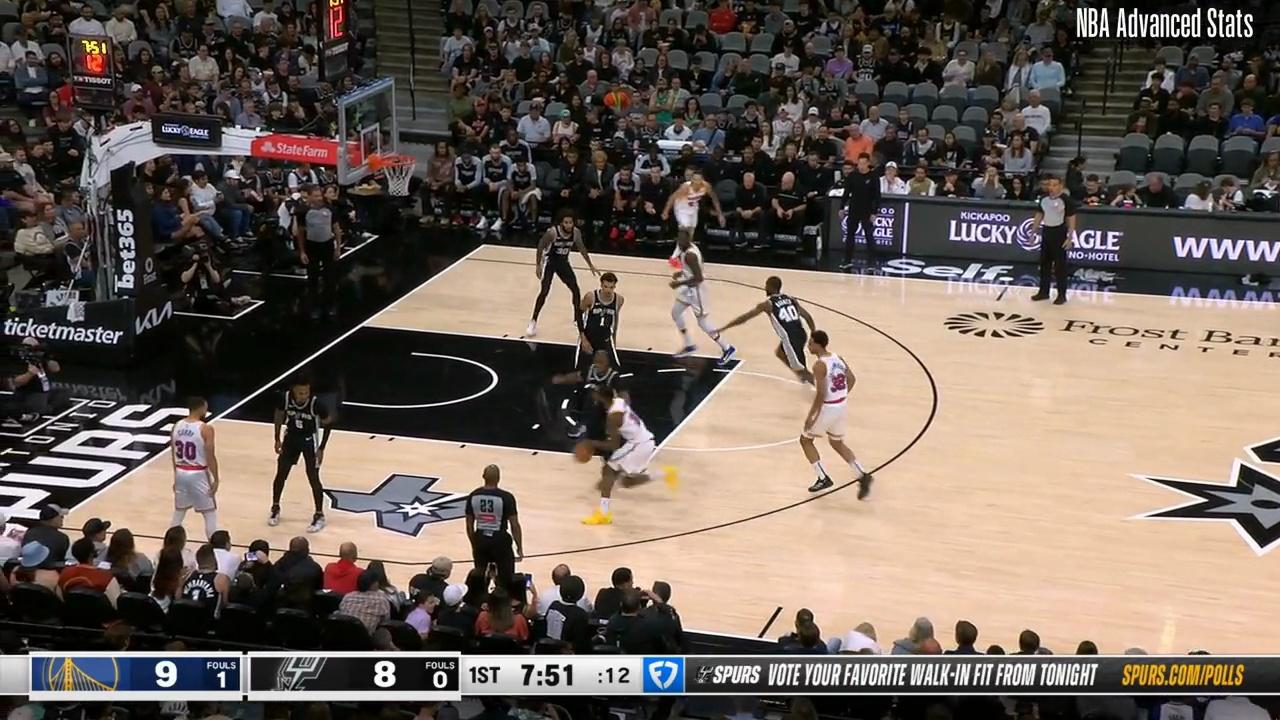basketball: (570, 441, 597, 465)
